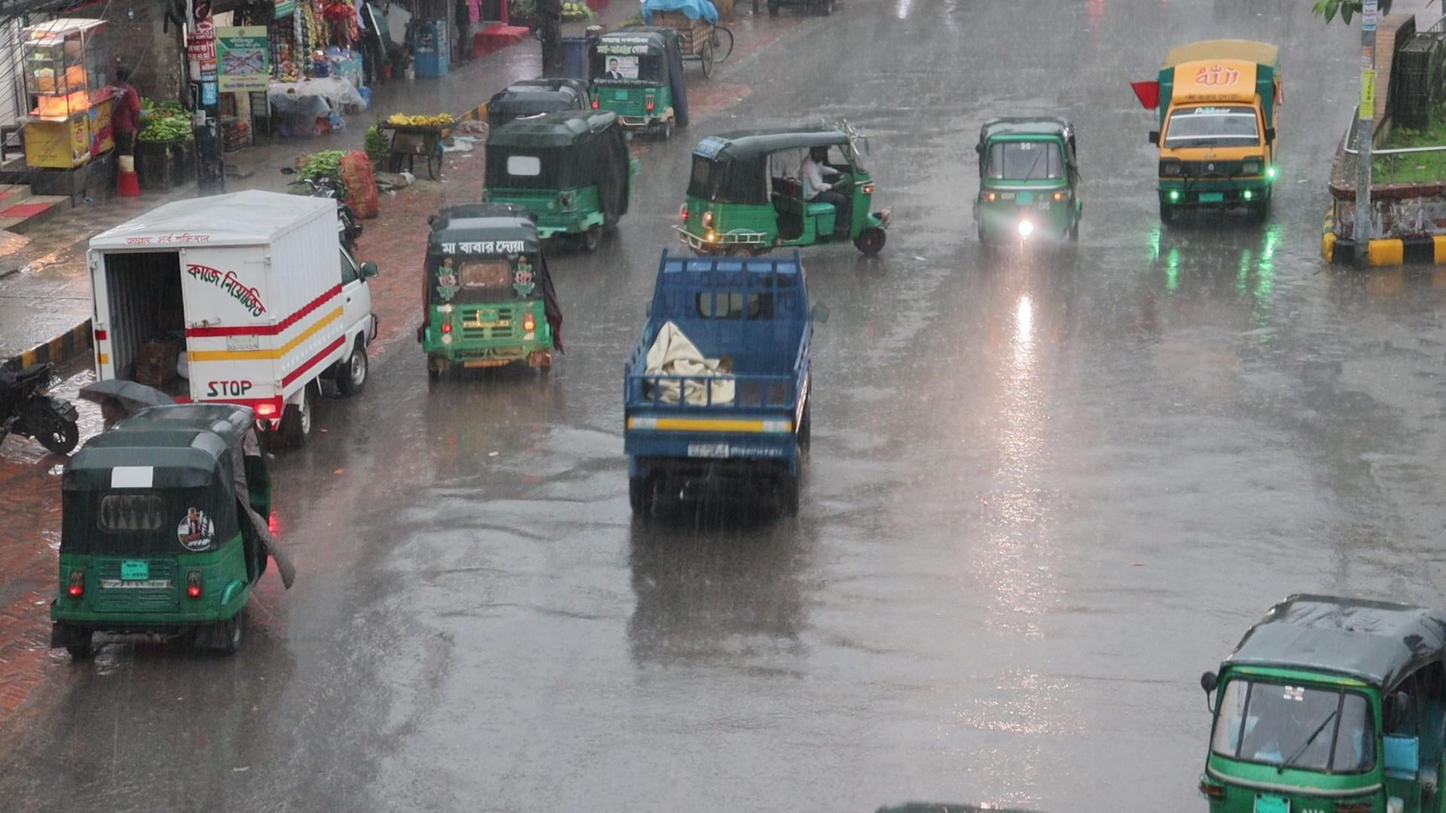Truck: (621, 244, 831, 520), (1145, 36, 1286, 224)
